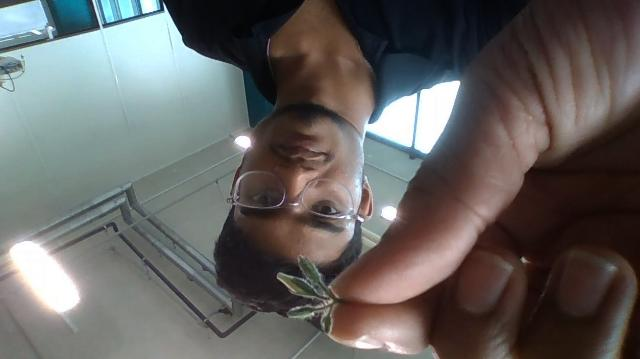Flower Bud: (275, 272, 321, 299), (297, 256, 329, 290), (285, 306, 322, 320), (320, 305, 336, 336)
